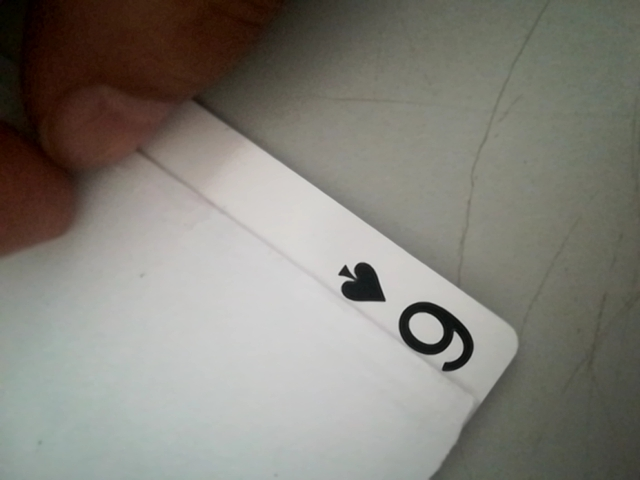ht 6: (323, 257, 492, 385)
